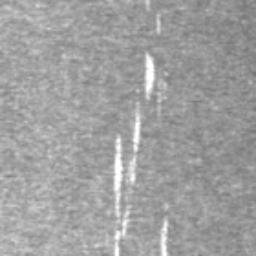White rust: (113, 99, 142, 256), (145, 50, 156, 101), (160, 216, 169, 256), (156, 10, 162, 36), (145, 0, 151, 12)
